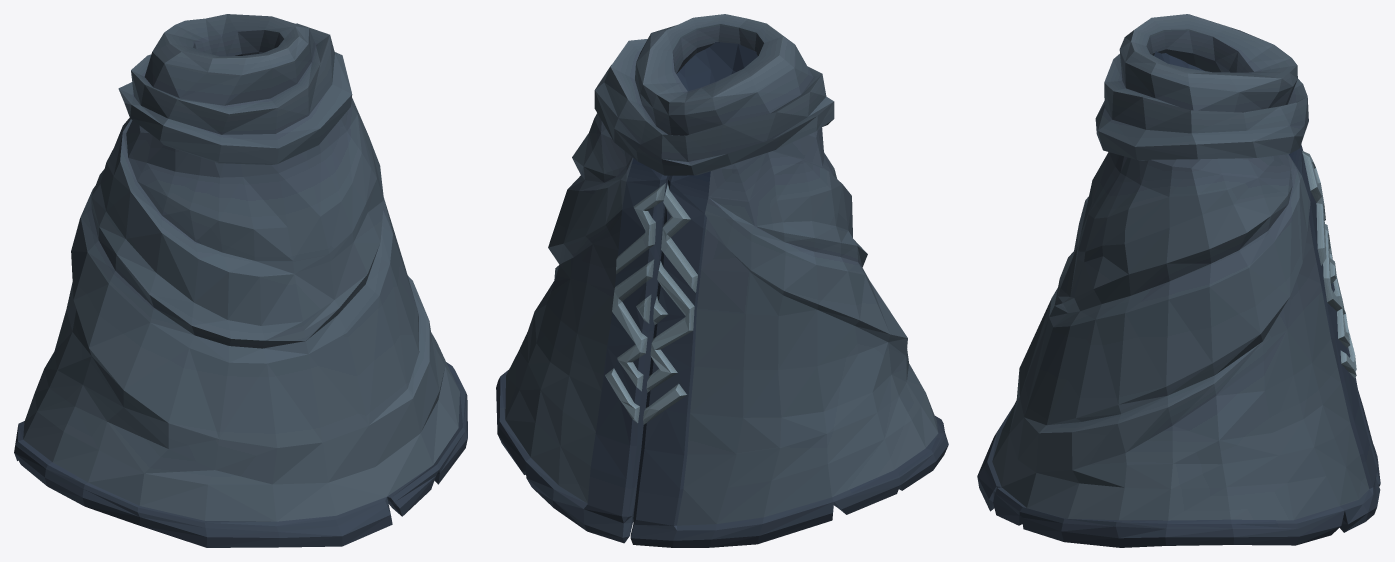
File: CharSkyKid_Wing_AP11Wrinkled_01.glb
3 renders of one model, left to right at view 1: azimuth 30°, elevation 25°; view 2: azimuth 150°, elevation 25°; view 3: azimuth 270°, elevation 25°, orthographic. The views are drawn at different scales.
Parts seen in each view (by area): view 1: CharSkyKid_Wing_AP11Wrinkled_01; view 2: CharSkyKid_Wing_AP11Wrinkled_01; view 3: CharSkyKid_Wing_AP11Wrinkled_01.
Part boxes in pixels (left/top/right/bottom): CharSkyKid_Wing_AP11Wrinkled_01: left=14, top=14, right=467, bottom=547; CharSkyKid_Wing_AP11Wrinkled_01: left=496, top=14, right=948, bottom=547; CharSkyKid_Wing_AP11Wrinkled_01: left=977, top=14, right=1380, bottom=547.
Bounding box in the file's own units: 7.42 × 7.61 × 6.13.
1 material, 1 textured.
